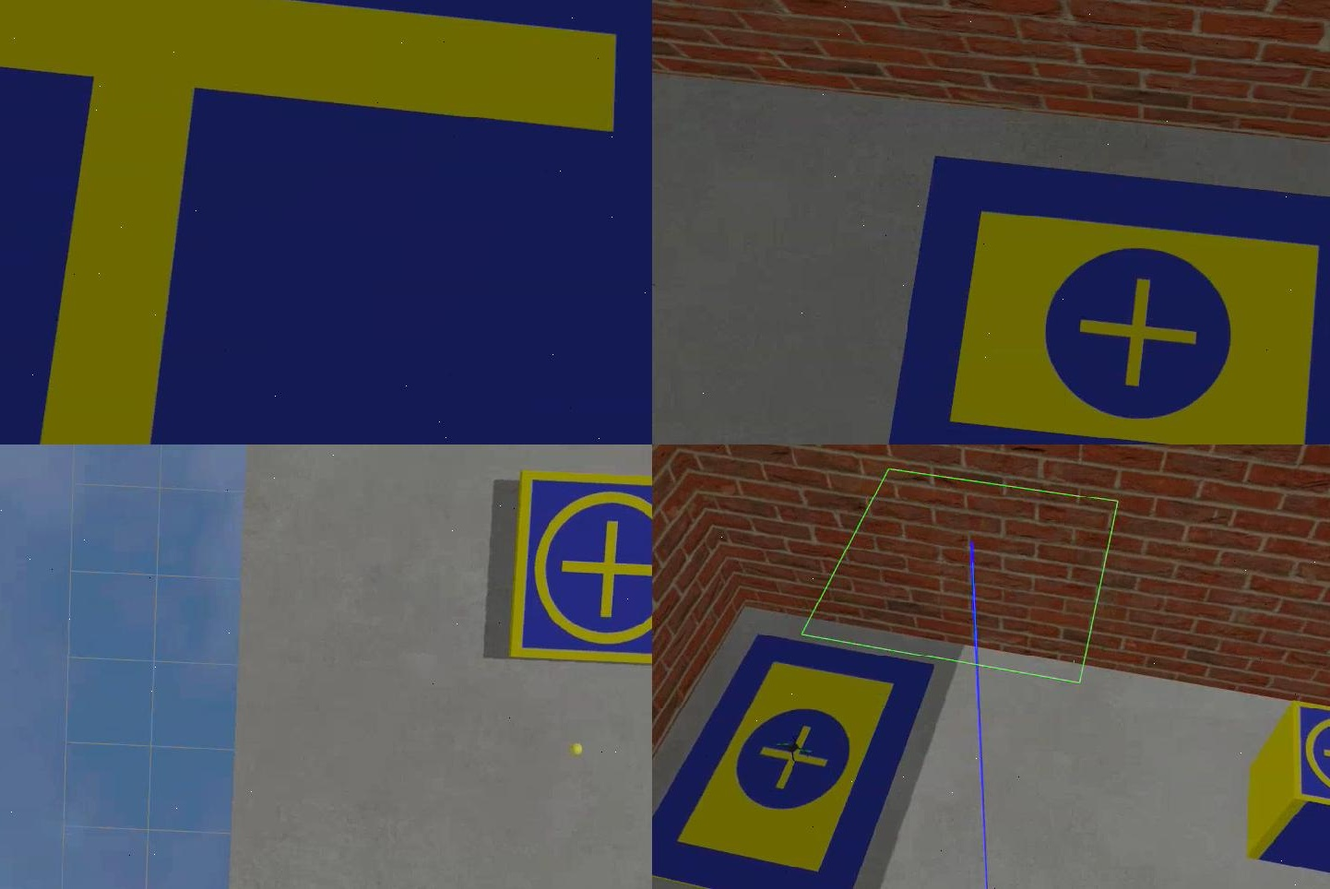large_base: (883, 158, 1328, 445), (651, 631, 935, 889)
small_base: (0, 1, 651, 445), (503, 468, 651, 671), (1290, 702, 1328, 824)
